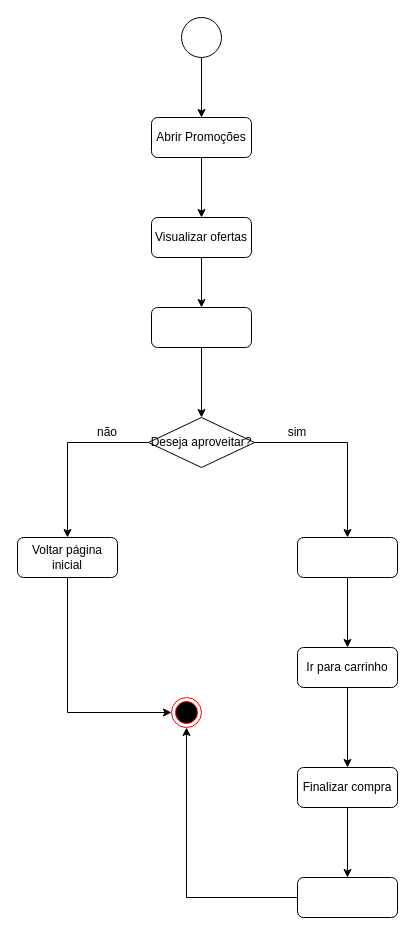
Image size: 415x935. Some labels were removed from this diagram. Each missing label, with the centre of its shape:
Adicionar ao carrinho: point 347,557
Promoção aplicada: point 347,897
Selecionar promoção: point 201,327
